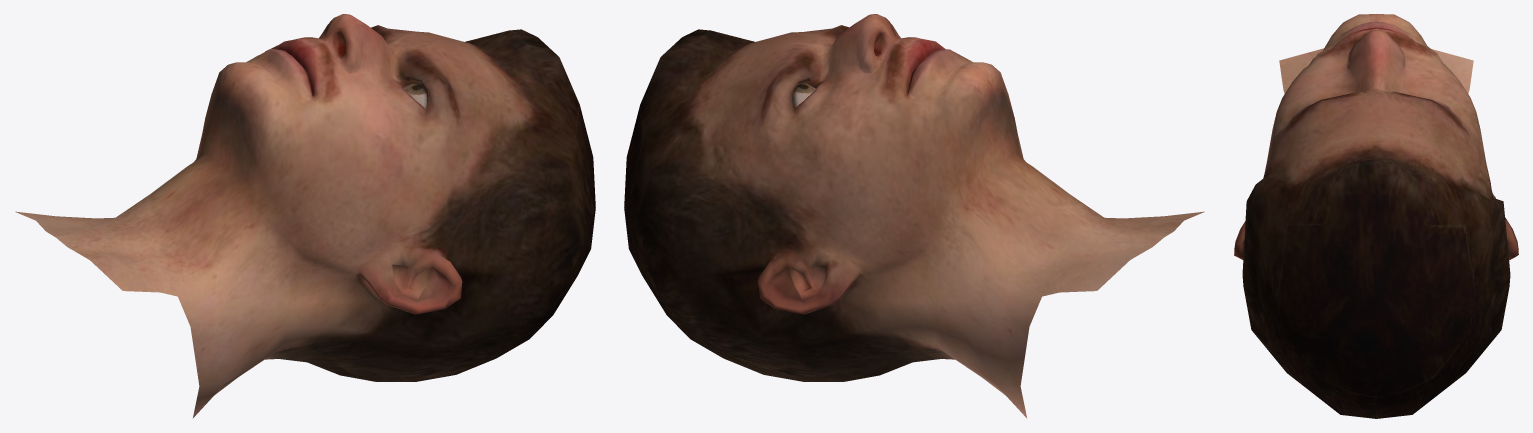
The model's file is head_us_ranger_david_low.glb.
3 renders of one model, left to right at view 1: azimuth 30°, elevation 25°; view 2: azimuth 150°, elevation 25°; view 3: azimuth 270°, elevation 25°, orthographic. The views are drawn at different scales.
Bounding box in the file's own units: 15.35 × 10.4 × 8.14.
Materials: 1 (1 with a texture image).
